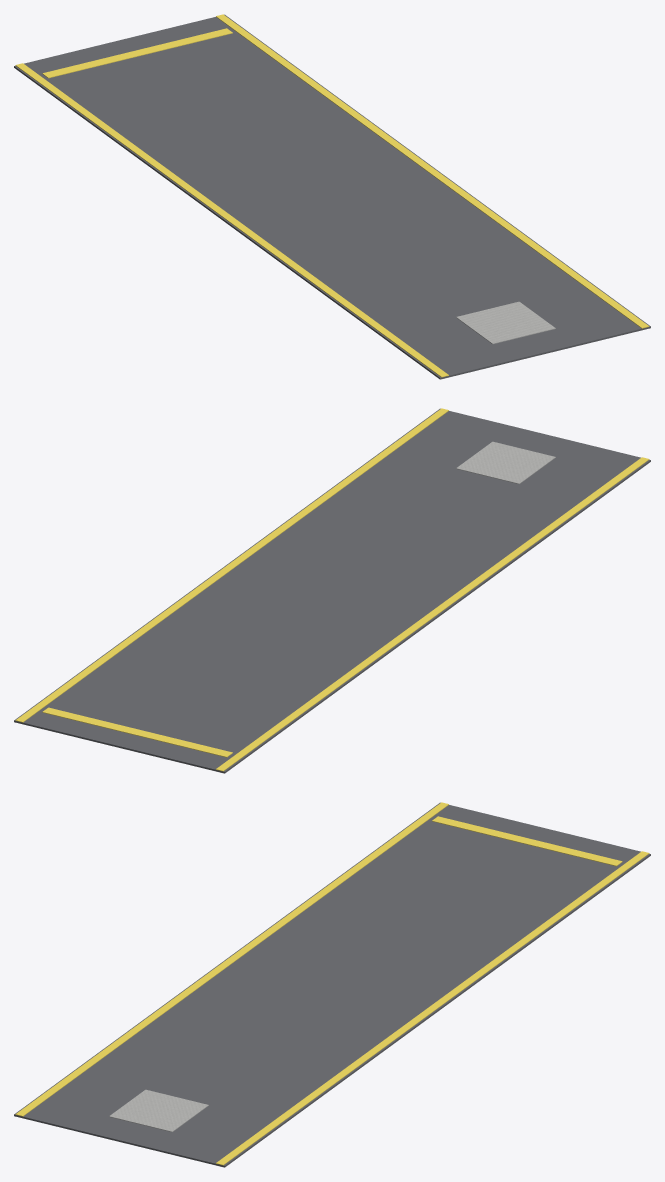
The model's file is bus-station-and-city-transit-depot-parking-bay-tile-4d3acaa2__34202.glb.
3 renders of one model, top to bottom at view 1: azimuth 30°, elevation 25°; view 2: azimuth 150°, elevation 25°; view 3: azimuth 330°, elevation 25°, orthographic.
Parts seen in each view (by area): view 1: depot-parking-bay-tile-charcoal, depot-parking-bay-tile-canary, depot-parking-bay-tile-concrete; view 2: depot-parking-bay-tile-charcoal, depot-parking-bay-tile-canary, depot-parking-bay-tile-concrete; view 3: depot-parking-bay-tile-charcoal, depot-parking-bay-tile-canary, depot-parking-bay-tile-concrete.
Part boxes in pixels (x1,y1,x2,y2): depot-parking-bay-tile-charcoal: [14, 14, 650, 379]; depot-parking-bay-tile-canary: [15, 14, 649, 377]; depot-parking-bay-tile-concrete: [456, 301, 555, 344]; depot-parking-bay-tile-charcoal: [14, 408, 650, 773]; depot-parking-bay-tile-canary: [15, 408, 649, 771]; depot-parking-bay-tile-concrete: [456, 441, 555, 484]; depot-parking-bay-tile-charcoal: [14, 802, 650, 1167]; depot-parking-bay-tile-canary: [15, 802, 649, 1165]; depot-parking-bay-tile-concrete: [109, 1089, 208, 1132].
Size of the model in its own units: 4 by 0.0424 by 14.
Materials: 3 (1 with a texture image).
